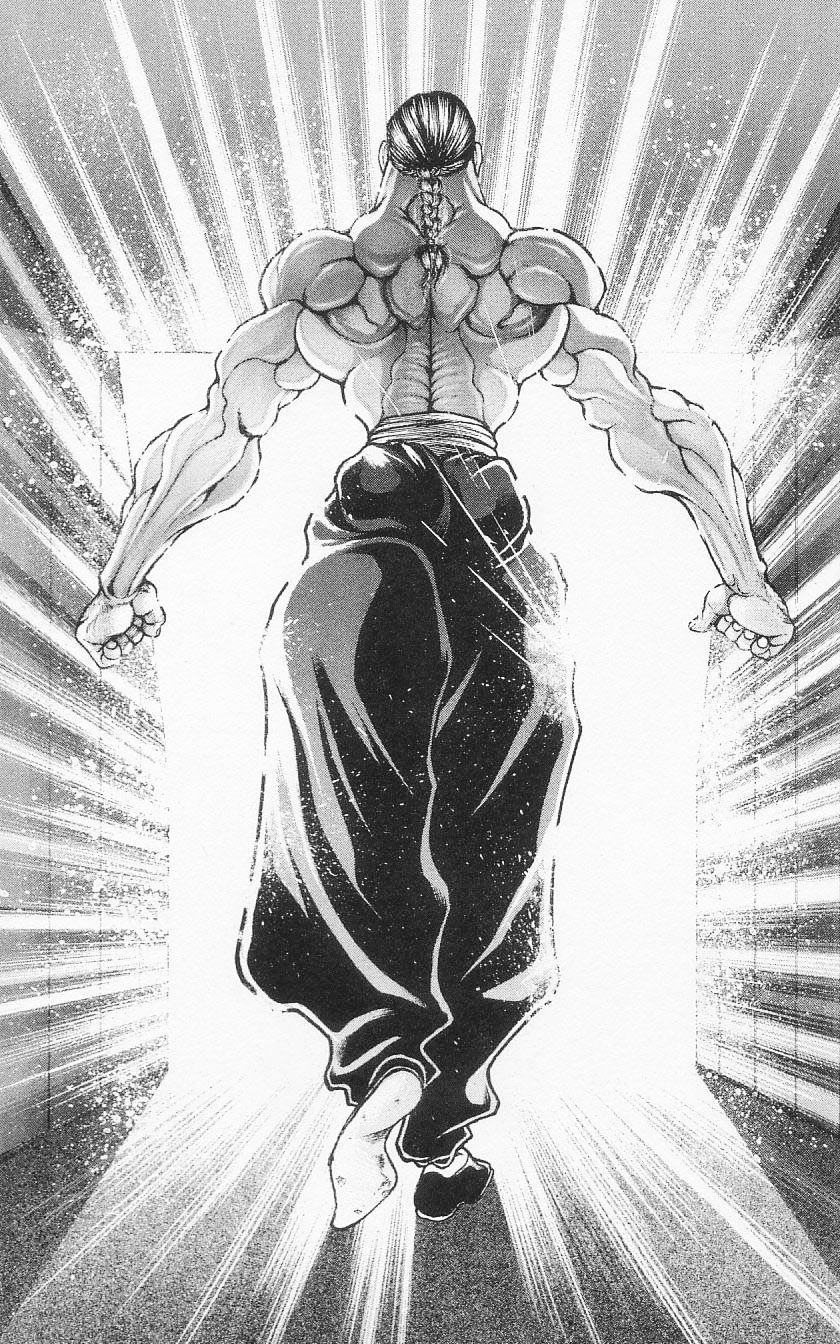Vignetta: (2, 2, 840, 1338)
